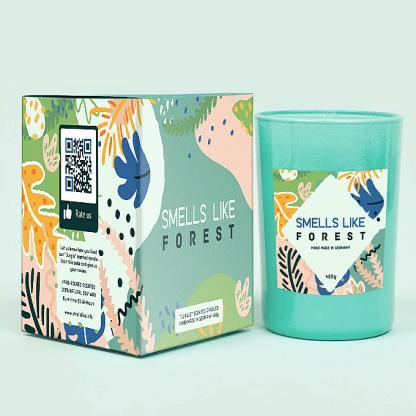qr_code: (65, 138, 91, 193)
